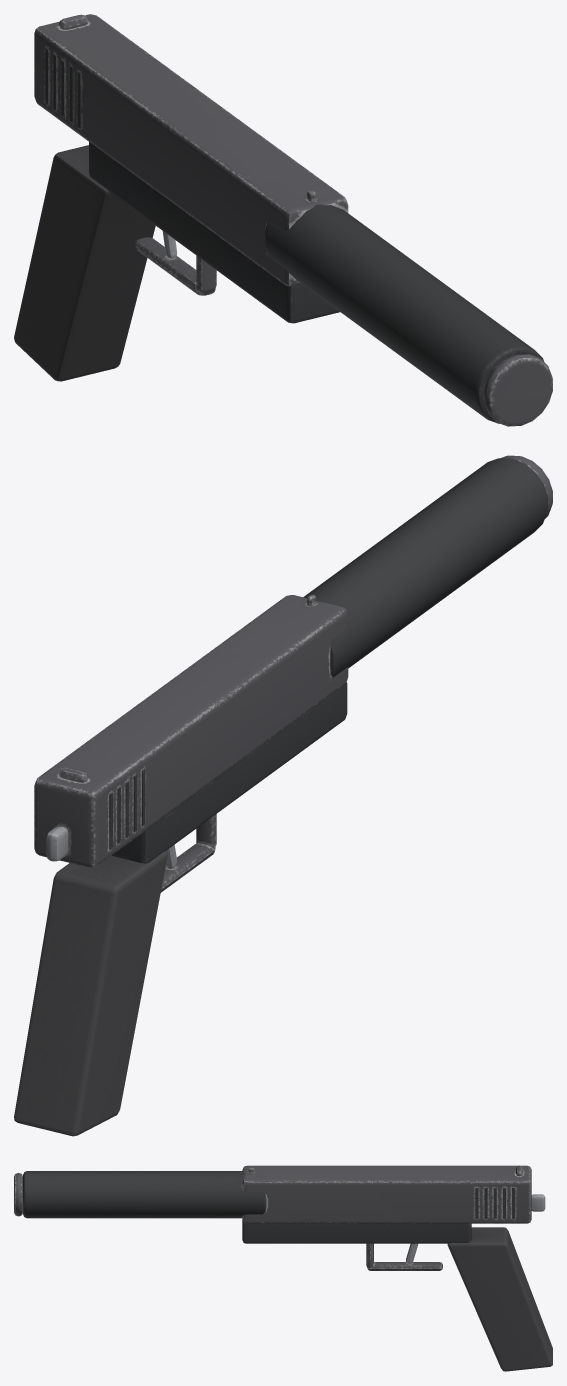
The model's file is usp.fbx.
The picture shows the model from 3 angles, top to bottom: view 1: azimuth 30°, elevation 25°; view 2: azimuth 150°, elevation 25°; view 3: azimuth 270°, elevation 25°; orthographic projection. The views are drawn at different scales.
Parts seen in each view (by area): view 1: usp; view 2: usp; view 3: usp.
Boxes of the visible parts, left/top/right/bottom form: usp: left=14, top=14, right=552, bottom=426; usp: left=14, top=455, right=552, bottom=1136; usp: left=14, top=1165, right=552, bottom=1371.
Size of the model in its own units: 0.0307 by 0.1422 by 0.3539.
